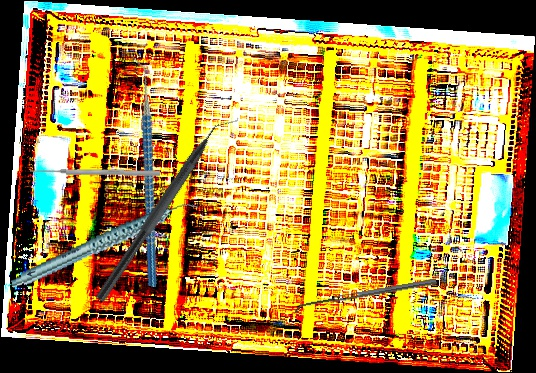Chopper: (67, 54, 219, 288), (94, 104, 242, 313)
Handpiece: (2, 198, 207, 290)
Pusher: (29, 166, 161, 178)
Spatula Surgical: (293, 278, 438, 315)
